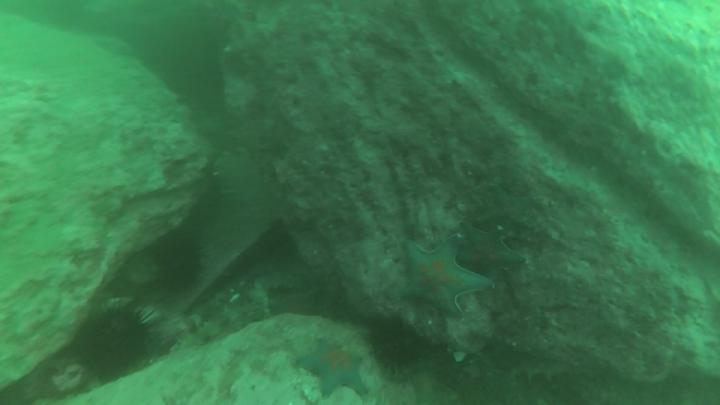echinus: (77, 307, 154, 383), (148, 235, 209, 301), (365, 314, 427, 373)
holothurian: (510, 351, 579, 385)
starfish: (401, 235, 490, 324), (296, 338, 370, 403), (454, 219, 528, 277)
